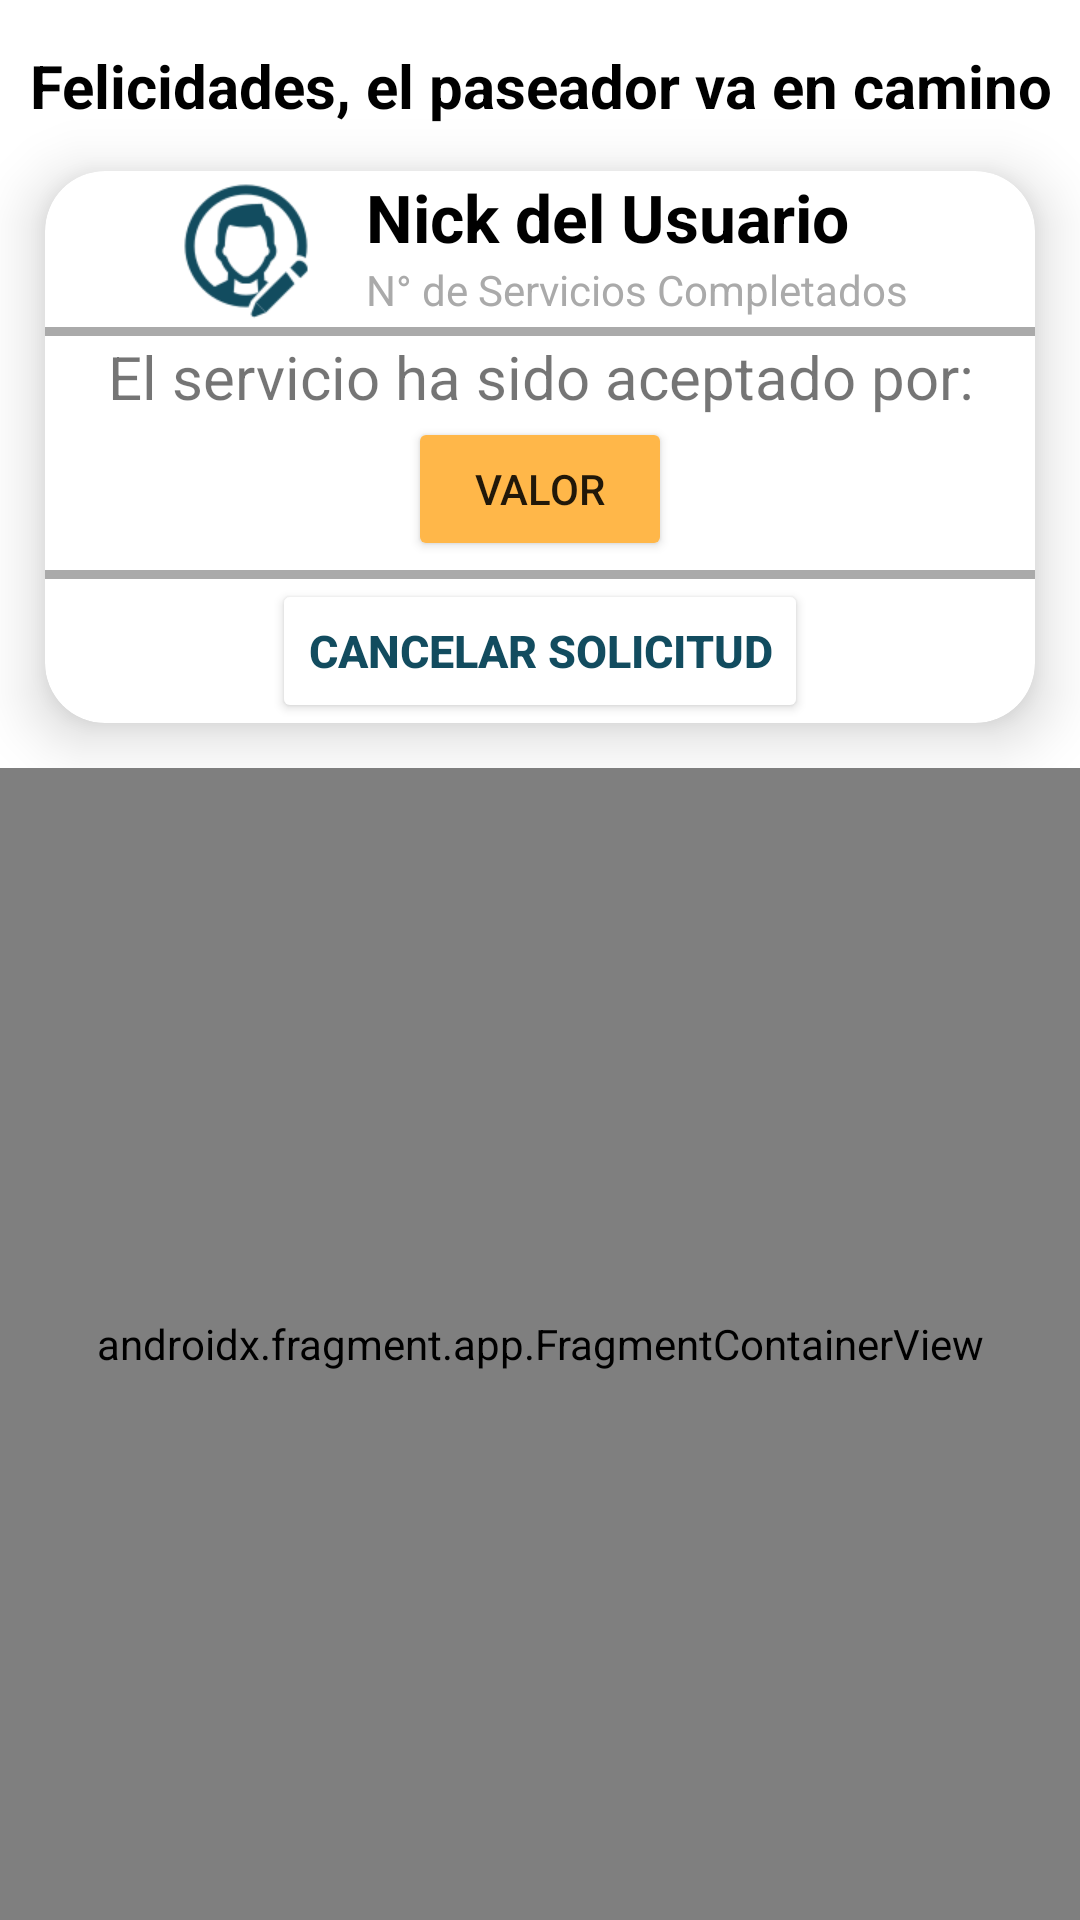

Named icons in this screenshot (1080px×1920px) and their centers, [x,y]:
foto perfil: [246,251]
